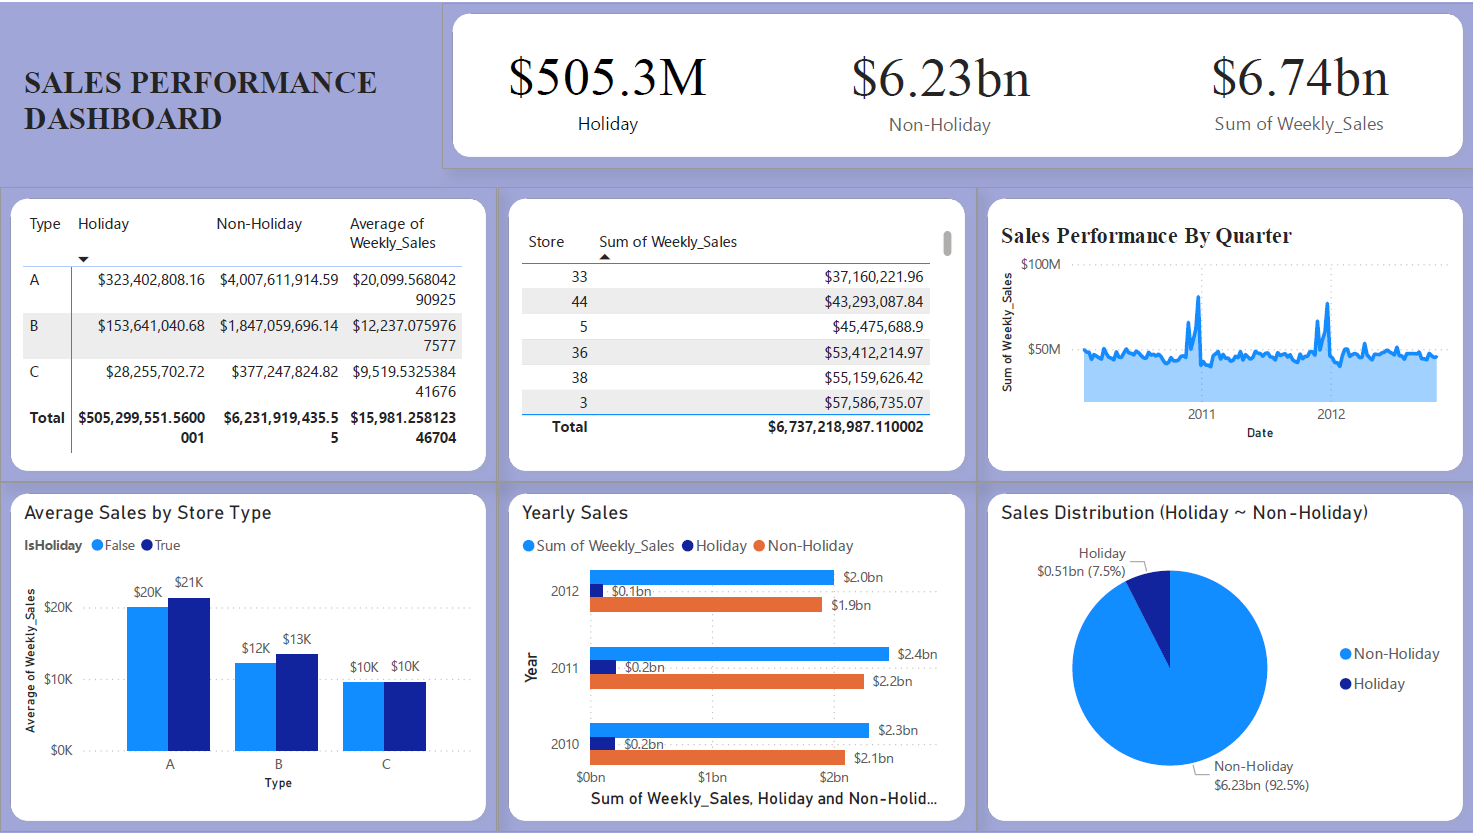

What the dashboard file says about the page in this screenshot:
{"tool":"powerbi","page":{"name":"Page 1","canvas":[1280,720],"ordinal":0},"visuals":[{"type":"shape","box":[0,160,432,256],"z":0},{"type":"pivotTable","fields":{"Rows":["Sales.Type"],"Values":["Sales.Holiday","Sales.Non-Holiday","Avg(Sales.Weekly_Sales)"]},"box":[16,176,400,224],"z":1000},{"type":"shape","box":[0,416,432,304],"z":1500},{"type":"clusteredColumnChart","title":"Average Sales by Store Type","fields":{"Y":["Avg(Sales.Weekly_Sales)"],"Category":["Sales.Type"],"Series":["Sales.IsHoliday"]},"box":[16,432,400,256],"z":2000},{"type":"shape","box":[432,160,416,256],"z":3000},{"type":"columnChart","fields":{"Category":["Sales.Store"],"Y":["Sum(Sales.Weekly_Sales)"]},"box":[448,192,384,192],"z":4000},{"type":"shape","box":[848,160,432,256],"z":4500},{"type":"shape","box":[432,416,416,304],"z":4750},{"type":"clusteredBarChart","title":"Yearly Sales","fields":{"Category":["Sales.Date.Variation.Date Hierarchy.Year","Sales.Date.Variation.Date Hierarchy.Quarter"],"Y":["Sum(Sales.Weekly_Sales)","Sales.Holiday","Sales.Non-Holiday"]},"box":[448,432,384,272],"z":5000},{"type":"shape","box":[848,416,432,304],"z":5500},{"type":"pieChart","title":"Sales Distribution (Holiday ~ Non-Holiday)","fields":{"Y":["Sales.Non-Holiday","Sales.Holiday"]},"box":[864,432,400,272],"z":6000},{"type":"stackedAreaChart","title":"Sales Performance By Quarter ","fields":{"Y":["Sum(Sales.Weekly_Sales)"],"Category":["Sales.Date"]},"box":[864,192,400,192],"z":9000},{"type":"shape","box":[384,0,896,144],"z":9500},{"type":"card","fields":{"Values":["Sales.Non-Holiday"]},"box":[688,16,256,112],"z":9625},{"type":"card","fields":{"Values":["Sales.Holiday"]},"box":[400,16,256,112],"z":9750},{"type":"card","fields":{"Values":["Sum(Sales.Weekly_Sales)"]},"box":[992,16,272,112],"z":10000},{"type":"textbox","box":[16,48,320,80],"z":11000}]}

Visuals, with their boxes in screenshot pixels (x1, y1, x2, y2), scaled from the page's 1280x720 canvas onto the 1473x835 screenshot:
shape: [0,186,497,482]
pivotTable - Sales.Type x Sales.Holiday: [18,204,479,464]
shape: [0,482,497,834]
"Average Sales by Store Type" clusteredColumnChart: [18,501,479,798]
shape: [497,186,976,482]
columnChart - Sales.Store x Sum(Sales.Weekly_Sales): [516,223,957,445]
shape: [976,186,1472,482]
shape: [497,482,976,834]
"Yearly Sales" clusteredBarChart: [516,501,957,816]
shape: [976,482,1472,834]
"Sales Distribution (Holiday ~ Non-Holiday)" pieChart: [994,501,1455,816]
"Sales Performance By Quarter " stackedAreaChart: [994,223,1455,445]
shape: [442,0,1472,167]
card - Sales.Non-Holiday: [792,19,1086,148]
card - Sales.Holiday: [460,19,755,148]
card - Sum(Sales.Weekly_Sales): [1142,19,1455,148]
textbox: [18,56,387,148]
